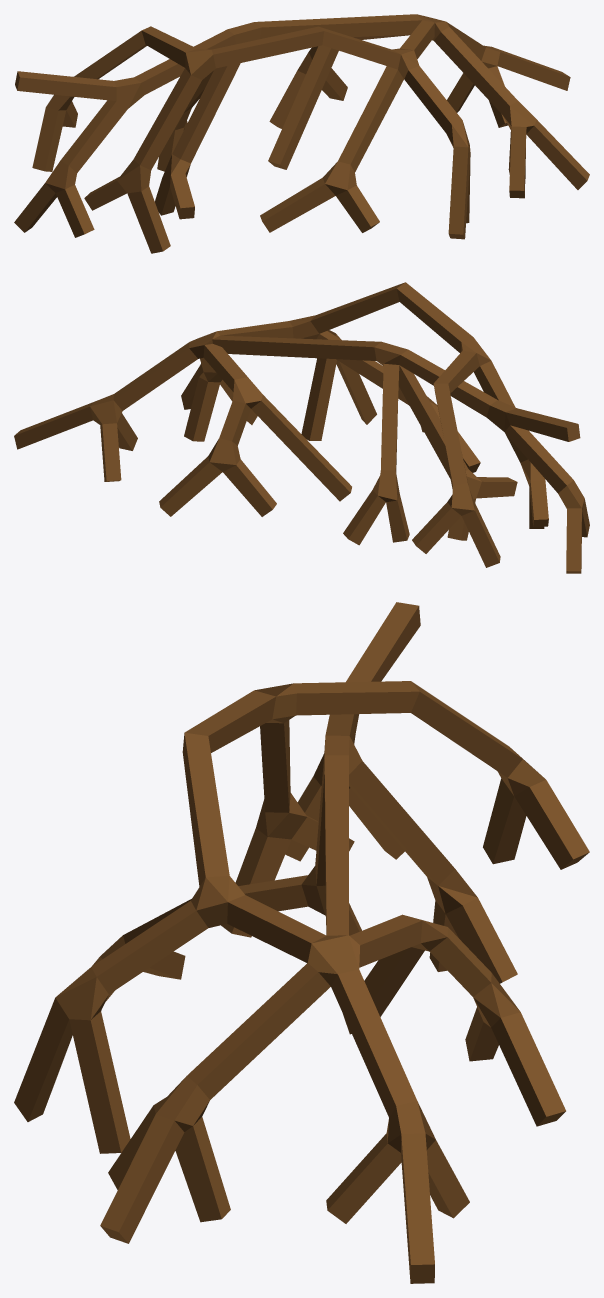
The model's file is Mangrove_Roots.fbx.
3 views of the same model, one above another, from view 1: azimuth 30°, elevation 25°; view 2: azimuth 150°, elevation 25°; view 3: azimuth 270°, elevation 25° (orthographic). The views are drawn at different scales.
Parts seen in each view (by area): view 1: Cube.010; view 2: Cube.010; view 3: Cube.010.
Part boxes in pixels (x1,y1,x2,y2): Cube.010: [14, 14, 589, 253]; Cube.010: [14, 282, 589, 573]; Cube.010: [14, 602, 589, 1283].
Size of the model in its own units: 7.1 by 2.45 by 3.91.
